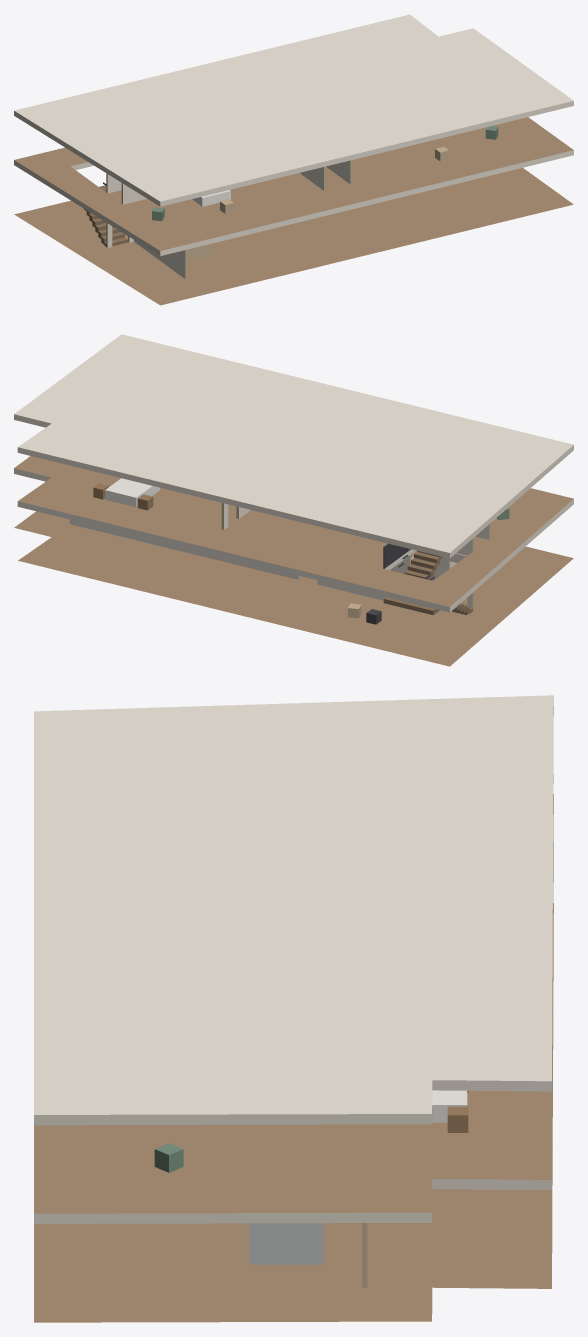
File: interior.glb
3 renders of one model, top to bottom at view 1: azimuth 30°, elevation 25°; view 2: azimuth 150°, elevation 25°; view 3: azimuth 270°, elevation 25°, orthographic. The views are drawn at different scales.
Parts seen in each view (by area): view 1: slabs, partitions, coarse-s1, stair; view 2: slabs, partitions, stair, coarse-s1; view 3: slabs, coarse-s0, coarse-s1.
Part boxes in pixels (x1,y1,x2,y2): slabs: [14, 14, 573, 305]; partitions: [106, 160, 352, 279]; coarse-s1: [152, 126, 498, 221]; stair: [84, 182, 127, 247]; slabs: [14, 334, 573, 666]; partitions: [69, 503, 490, 610]; stair: [383, 543, 473, 614]; coarse-s1: [93, 478, 509, 519]; slabs: [34, 695, 553, 1322]; coarse-s0: [249, 1223, 323, 1264]; coarse-s1: [154, 1090, 468, 1172].
Size of the model in its own units: 22.8 by 5.28 by 11.93.
